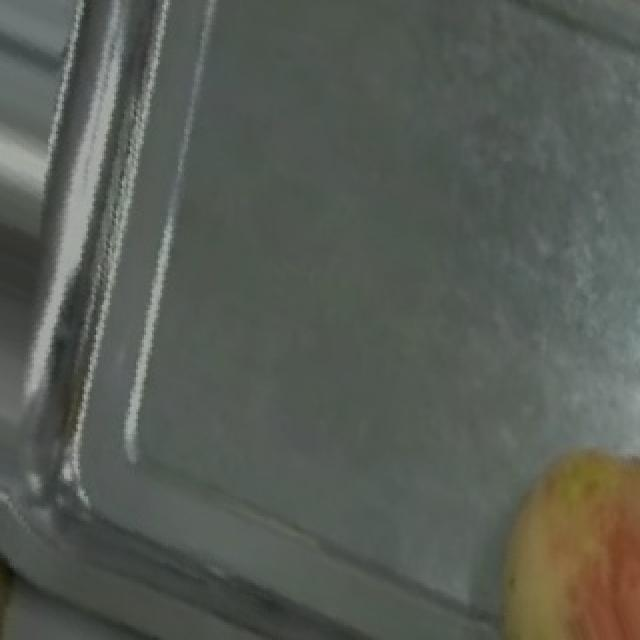Fruit: (452, 412, 640, 640)
